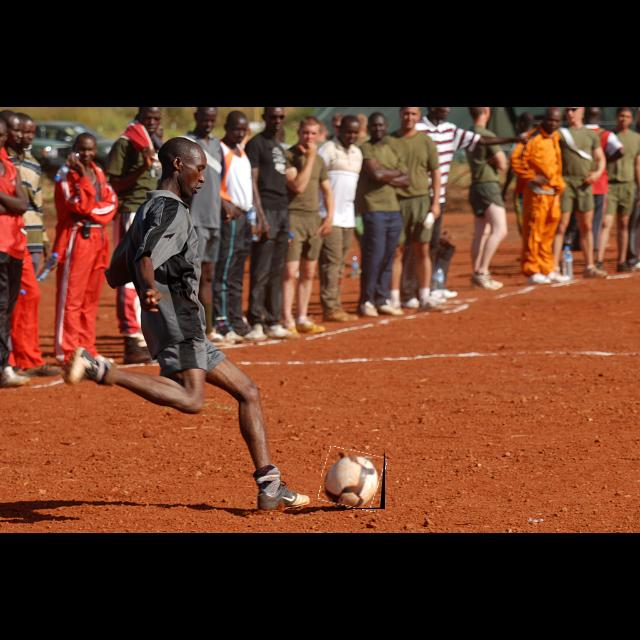Football: (321, 449, 385, 509)
